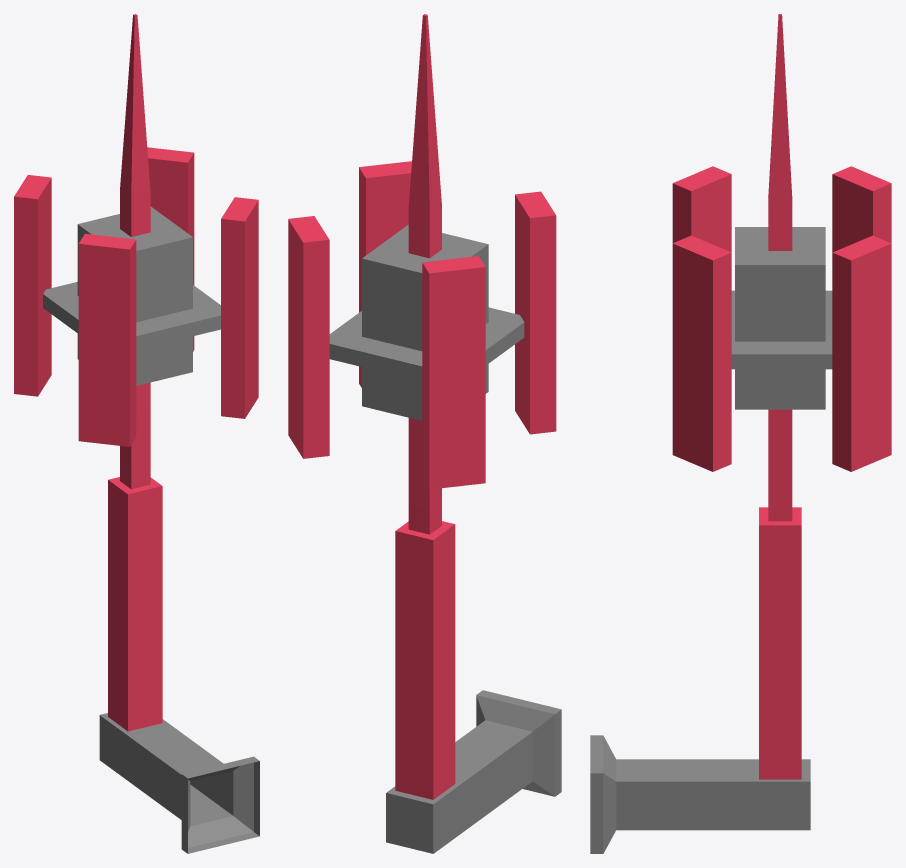
File: CbpProps A.fbx
The picture shows the model from 3 angles, left to right: view 1: azimuth 30°, elevation 25°; view 2: azimuth 150°, elevation 25°; view 3: azimuth 270°, elevation 25°; orthographic projection. The views are drawn at different scales.
Parts seen in each view (by area): view 1: CbpProps A; view 2: CbpProps A; view 3: CbpProps A.
Part boxes in pixels (x1,y1,x2,y2): CbpProps A: (14, 14, 259, 853); CbpProps A: (288, 14, 561, 853); CbpProps A: (590, 14, 891, 853).
Size of the model in its own units: 1.07 by 4.33 by 1.44.
